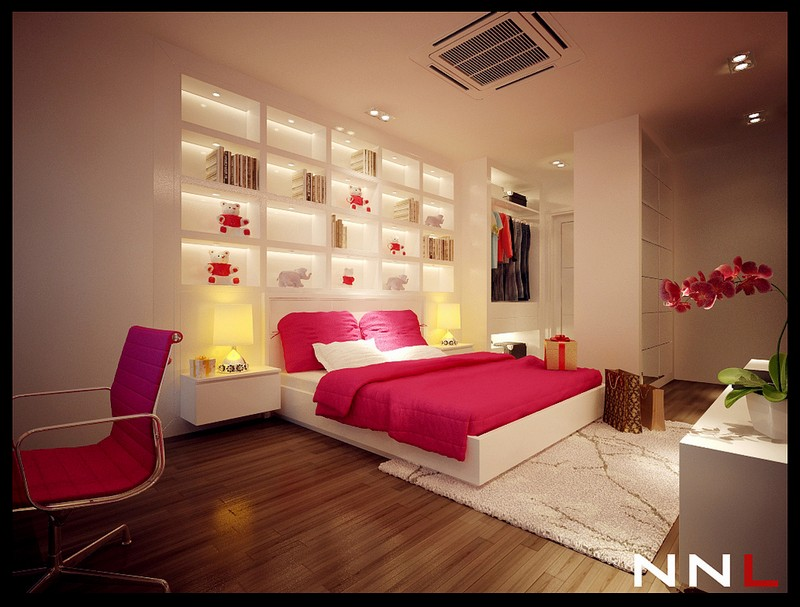bed: (262, 296, 609, 493)
chair: (16, 321, 183, 587)
lamp: (210, 299, 256, 378), (432, 300, 467, 351)
